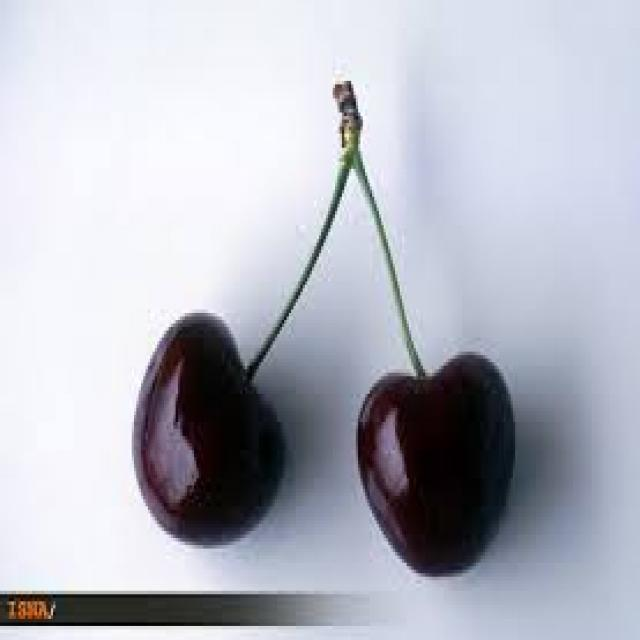cherry: (130, 84, 518, 580)
